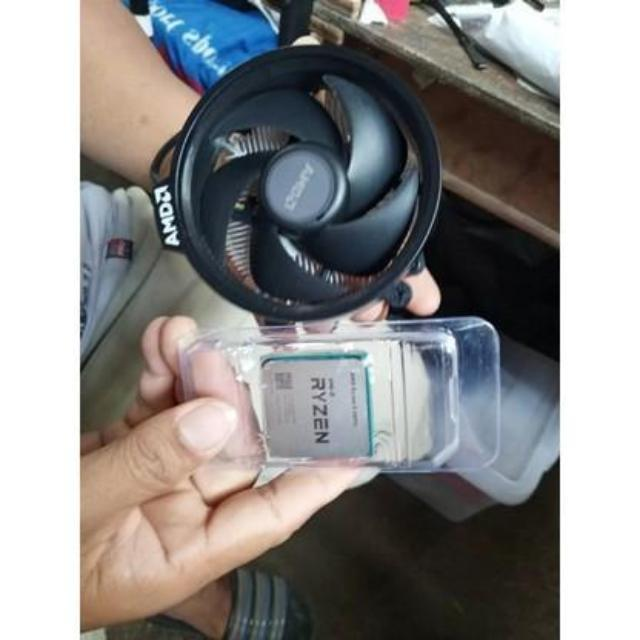CPU: (260, 352, 378, 470)
CPU_Fan: (158, 47, 433, 313)
